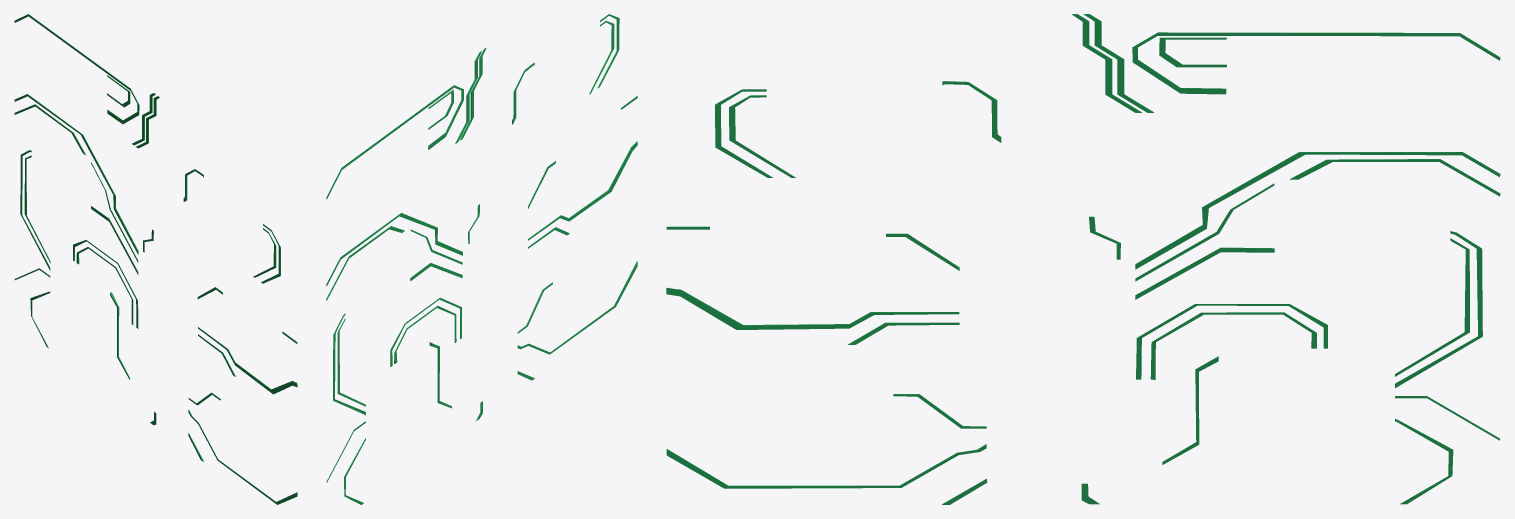
Rendered from Capstone_objectchangelineMINIGAME.fbx.
3 views of the same model, side by side, from view 1: azimuth 30°, elevation 25°; view 2: azimuth 150°, elevation 25°; view 3: azimuth 270°, elevation 25° (orthographic). The views are drawn at different scales.
Parts seen in each view (by area): view 1: Cube.032; view 2: Cube.032; view 3: Cube.032.
Part boxes in pixels (x1,y1,x2,y2): Cube.032: (14, 14, 297, 504); Cube.032: (326, 14, 637, 504); Cube.032: (666, 14, 1500, 504).
Bounding box in the file's own units: 8.28 × 1287 × 1985.
